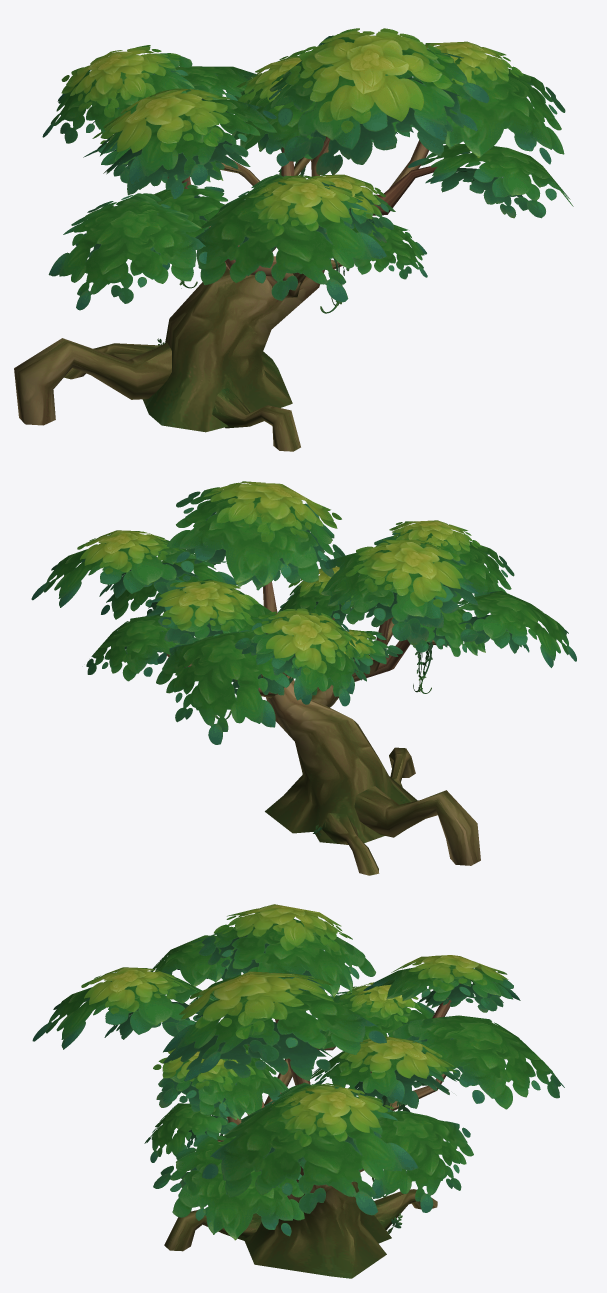
File: sm_tree_04.FBX
3 renders of one model, top to bottom at view 1: azimuth 30°, elevation 25°; view 2: azimuth 150°, elevation 25°; view 3: azimuth 270°, elevation 25°, orthographic. The views are drawn at different scales.
Parts seen in each view (by area): view 1: sm_tree_04; view 2: sm_tree_04; view 3: sm_tree_04.
Boxes of the visible parts, x1,y1,x2,y2 form: sm_tree_04: (14,28,573,451); sm_tree_04: (31,481,576,875); sm_tree_04: (32,904,564,1278).
Size of the model in its own units: 2484 by 2192 by 1365.
